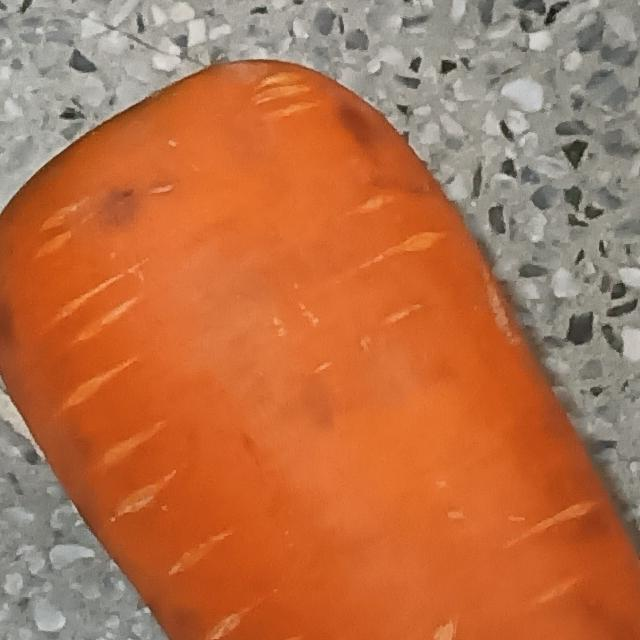carrot: (1, 52, 640, 640)
